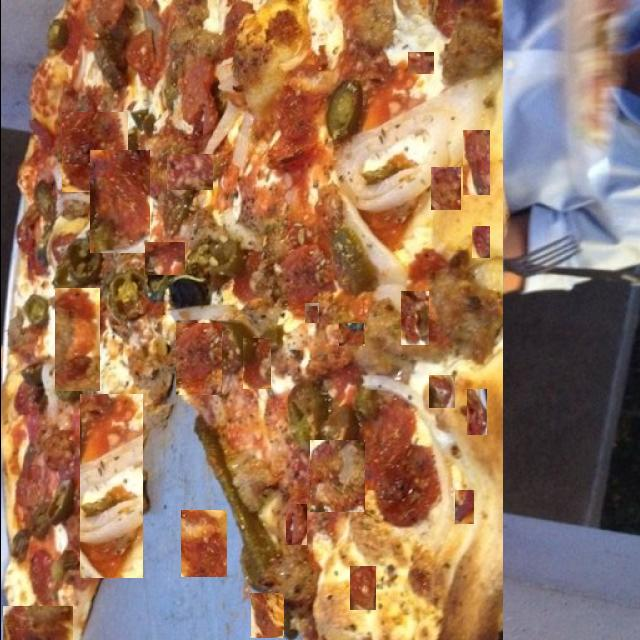pepperoni: (79, 394, 142, 578), (89, 150, 149, 253), (61, 112, 127, 192), (54, 288, 99, 391), (309, 440, 364, 512), (175, 323, 221, 395), (180, 510, 226, 577), (328, 552, 365, 632), (398, 84, 434, 155), (109, 552, 165, 595), (2, 606, 72, 640), (290, 518, 319, 586), (462, 130, 489, 195), (193, 470, 237, 508), (188, 472, 240, 504), (166, 154, 212, 190), (400, 291, 428, 345), (249, 593, 282, 638), (242, 338, 270, 389), (191, 475, 236, 506), (144, 242, 184, 275), (248, 598, 282, 636), (430, 167, 460, 210), (449, 42, 474, 90), (348, 566, 374, 610), (380, 605, 410, 640), (434, 3, 464, 36), (466, 389, 486, 435), (423, 575, 441, 626), (285, 504, 306, 545), (368, 414, 390, 452), (428, 375, 453, 408), (401, 510, 419, 555), (454, 490, 473, 524), (384, 150, 414, 170), (338, 323, 364, 346), (471, 226, 489, 258), (407, 52, 433, 74), (426, 517, 443, 550), (406, 444, 420, 474), (402, 422, 419, 440), (304, 303, 318, 323)
pizza: (0, 0, 502, 640)
